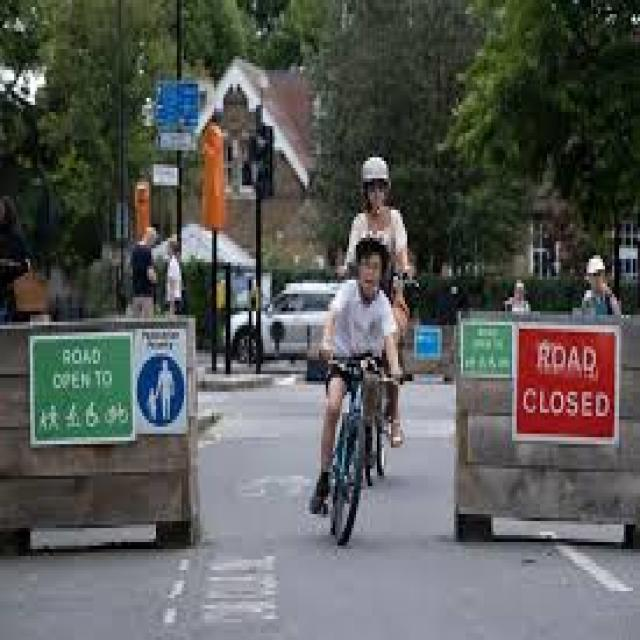no-low traffic: (201, 111, 468, 623)
